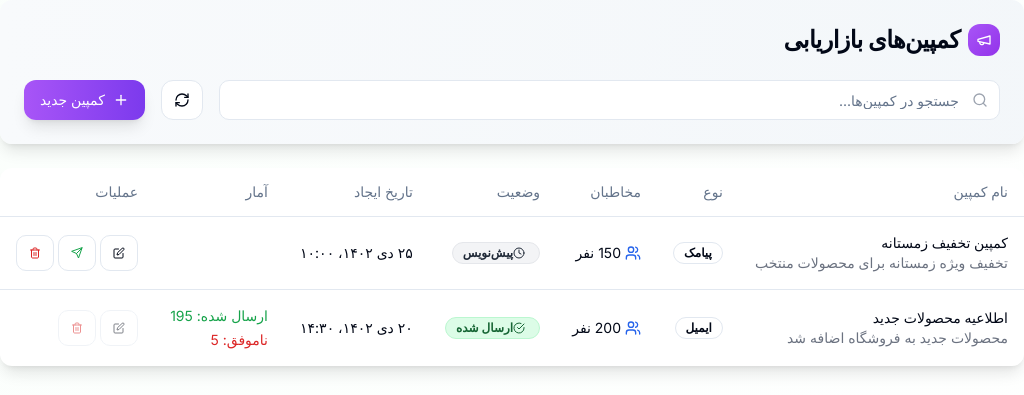
MarketingCampaigns › searches campaigns
The width and height of the screenshot is (1024, 395).
Expected: the text "کمپین تخفیف زمستانه" is shown, [881, 234, 1008, 250]
Type "تخفیف" into the field with placeholder "جستجو در کمپین‌ها...". click: (609, 100)
box: [219, 80, 1000, 120]
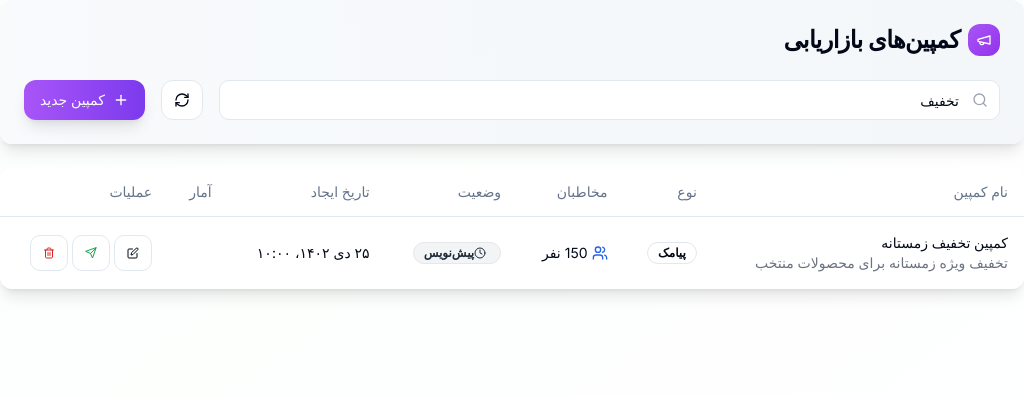
Expected: the text "کمپین تخفیف زمستانه" is shown, [881, 234, 1008, 250]
Result: the text "اطلاعیه محصولات جدید" is gone
